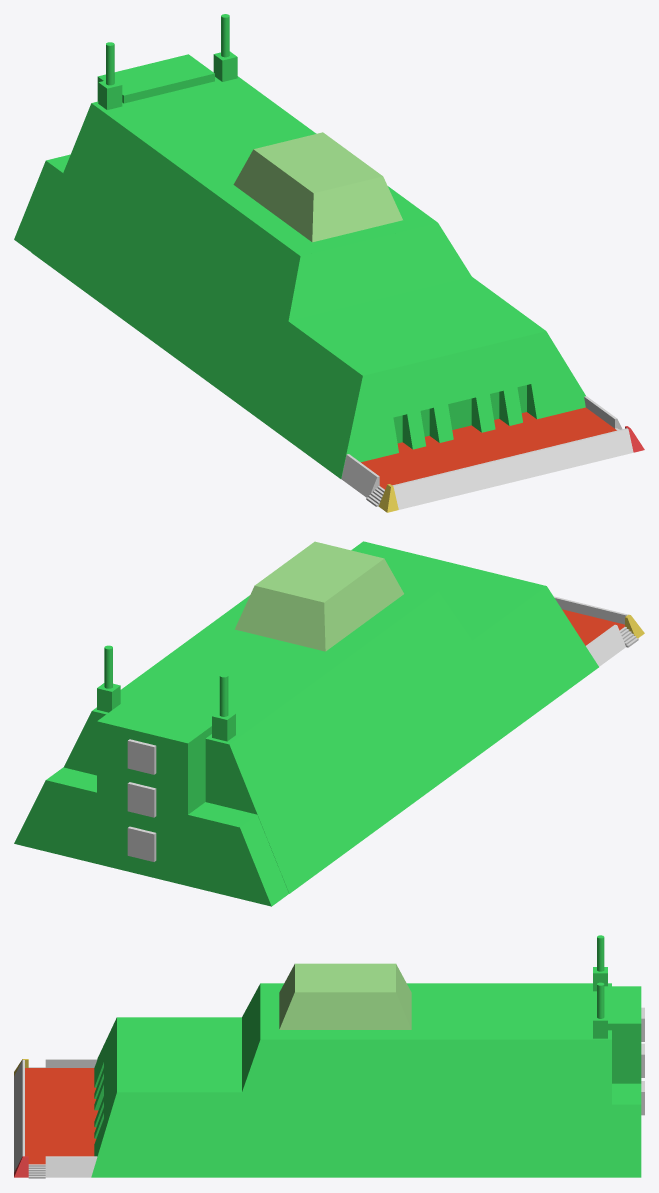
The model's file is LabFinal.glb.
3 renders of one model, top to bottom at view 1: azimuth 30°, elevation 25°; view 2: azimuth 150°, elevation 25°; view 3: azimuth 270°, elevation 25°, orthographic. The views are drawn at different scales.
Parts seen in each view (by area): view 1: MainPiece, FrontPieces, TopSection, FrontEntrance, FrontEntranceWallFront, EndPieceMain, Chimney1.001, Chimney1, FrontEntranceWall1; view 2: MainPiece, EndPieceMain, FrontPieces, TopSection, Chimney1.001, Chimney1, FrontEntrance, FrontEntranceWall1, EndPieceWindows1, EndPieceWindows2, EndPieceWindows3, FrontEntranceWallFront; view 3: MainPiece, FrontPieces, TopSection, FrontEntrance, EndPieceMain, FrontEntranceWall2, FrontEntranceWallFront, Chimney1, Chimney1.001, FrontEntranceWall1.
Part boxes in pixels (left/top/right/bottom): MainPiece: left=31, top=76, right=437, bottom=405; FrontPieces: left=240, top=223, right=585, bottom=478; TopSection: left=233, top=132, right=402, bottom=242; FrontEntrance: left=361, top=407, right=616, bottom=489; FrontEntranceWallFront: left=392, top=428, right=633, bottom=509; EndPieceMain: left=14, top=54, right=214, bottom=251; Chimney1.001: left=98, top=42, right=122, bottom=109; Chimney1: left=213, top=14, right=237, bottom=81; FrontEntranceWall1: left=341, top=454, right=379, bottom=497; MainPiece: left=64, top=581, right=498, bottom=893; EndPieceMain: left=14, top=702, right=288, bottom=906; FrontPieces: left=351, top=541, right=598, bottom=740; TopSection: left=234, top=541, right=403, bottom=651; Chimney1.001: left=212, top=673, right=235, bottom=741; Chimney1: left=97, top=645, right=120, bottom=712; FrontEntrance: left=562, top=609, right=624, bottom=645; FrontEntranceWall1: left=586, top=624, right=625, bottom=666; EndPieceWindows1: left=127, top=826, right=156, bottom=861; EndPieceWindows2: left=127, top=782, right=156, bottom=817; EndPieceWindows3: left=127, top=739, right=156, bottom=774; FrontEntranceWallFront: left=553, top=596, right=628, bottom=624; MainPiece: left=260, top=983, right=611, bottom=1177; FrontPieces: left=91, top=984, right=260, bottom=1177; TopSection: left=279, top=963, right=411, bottom=1029; FrontEntrance: left=25, top=1068, right=98, bottom=1164; EndPieceMain: left=604, top=986, right=641, bottom=1177; FrontEntranceWall2: left=45, top=1156, right=97, bottom=1177; FrontEntranceWallFront: left=14, top=1060, right=24, bottom=1172; Chimney1: left=593, top=982, right=607, bottom=1038; Chimney1.001: left=593, top=935, right=607, bottom=991; FrontEntranceWall1: left=45, top=1059, right=97, bottom=1067.
Bounding box in the file's own units: 34.6 × 24.7 × 85.78.
